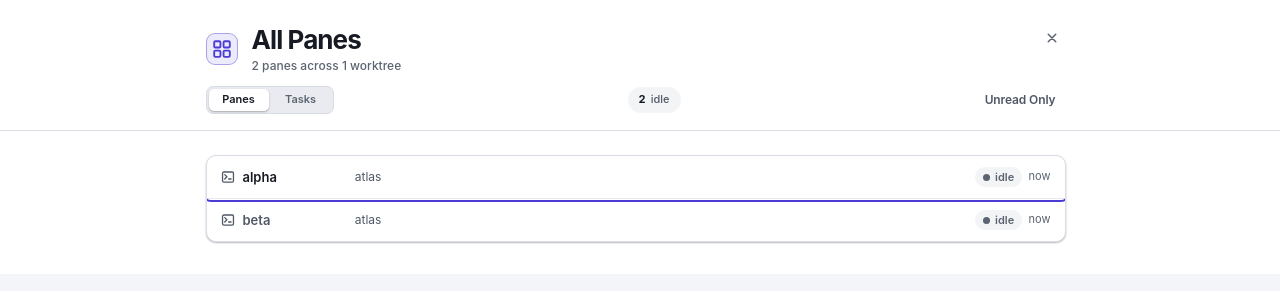
Test: the unread filter › hides the panes that have already been read
Expected: the text "alpha" is shown, [242,168,277,186]
Expected: the text "beta" is shown, [242,211,270,229]
Click the button "Unread Only" at (1020, 100), box [975,87,1066,113]
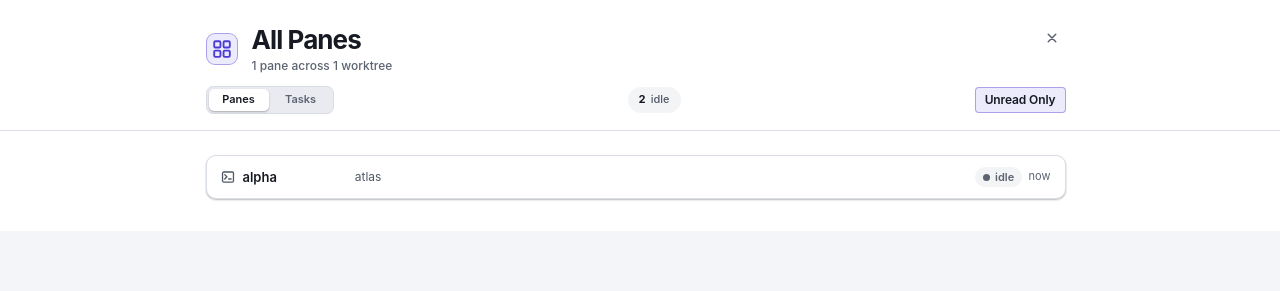
Expected: the text "alpha" is shown, [242,168,277,186]
Expected: the button "beta" is gone
